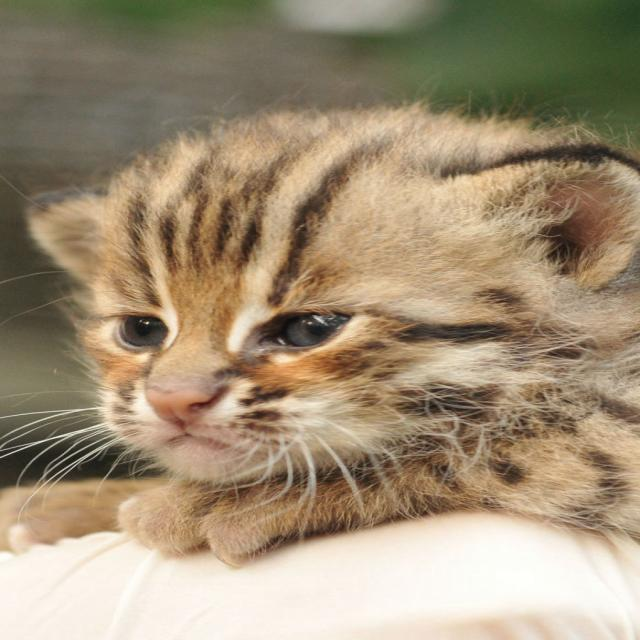leopard: (41, 116, 600, 513)
